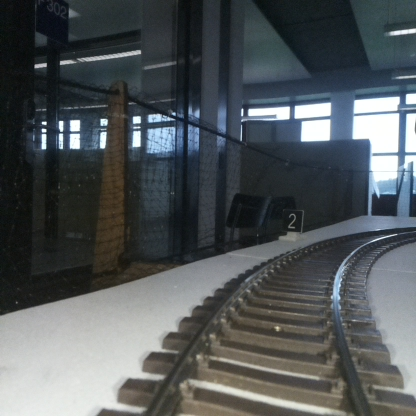black-stop-2: (282, 209, 302, 240)
